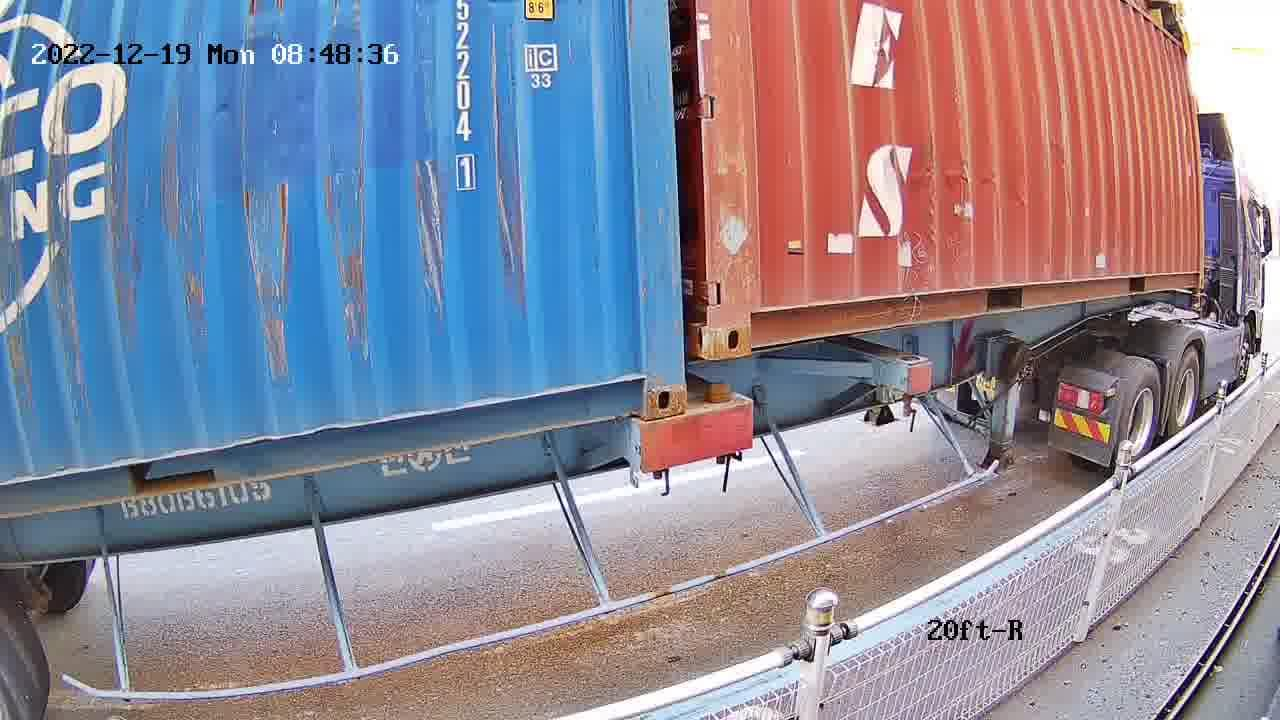Cone: (700, 383, 740, 458), (642, 418, 685, 475)
Hole_L: (710, 275, 782, 358)
Hole_R: (599, 340, 686, 421)
Tire: (1116, 362, 1163, 466), (1168, 349, 1201, 436)
